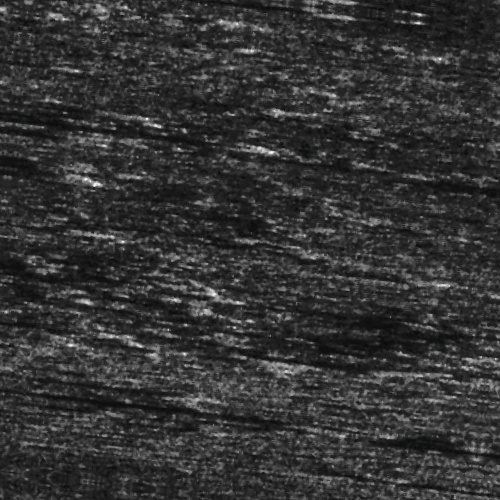object: (281, 408, 396, 425), (16, 148, 151, 161), (27, 342, 184, 353), (177, 139, 282, 152), (36, 185, 99, 206), (74, 123, 157, 136), (383, 343, 456, 354), (280, 0, 363, 9), (37, 247, 120, 252), (177, 396, 218, 403)
shadow: (31, 408, 338, 425), (0, 139, 229, 152), (178, 343, 419, 354), (139, 0, 321, 9), (376, 454, 500, 467), (0, 185, 67, 206), (0, 342, 105, 353), (0, 148, 83, 161), (71, 396, 197, 403), (50, 123, 115, 136), (440, 418, 500, 425), (0, 247, 78, 252), (386, 160, 500, 163)
